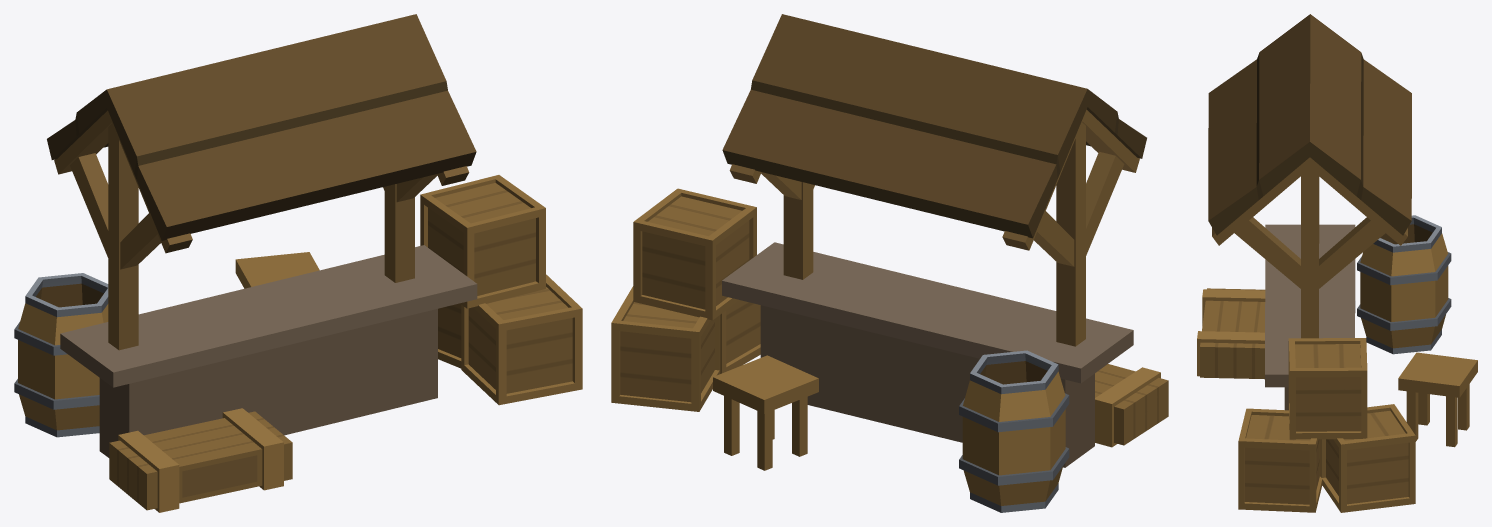
Rendered from Stall_02.gltf.
The picture shows the model from 3 angles, left to right: view 1: azimuth 30°, elevation 25°; view 2: azimuth 150°, elevation 25°; view 3: azimuth 270°, elevation 25°; orthographic projection. The views are drawn at different scales.
Parts seen in each view (by area): view 1: SF_Bld_Stall_02; view 2: SF_Bld_Stall_02; view 3: SF_Bld_Stall_02.
Part boxes in pixels (x1=…): SF_Bld_Stall_02: x1=14, y1=14, x2=582, y2=512; SF_Bld_Stall_02: x1=611, y1=14, x2=1168, y2=512; SF_Bld_Stall_02: x1=1197, y1=14, x2=1477, y2=512.
Size of the model in its own units: 0.0656 by 0.05 by 0.0402.
Materials: 1 (1 with a texture image).
